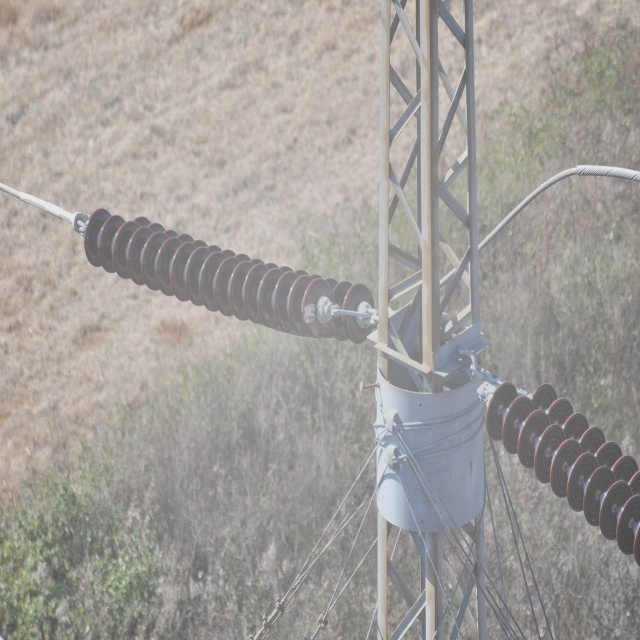insulator: (84, 207, 374, 342), (486, 378, 640, 567)
